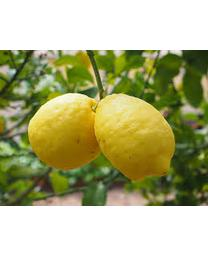lemon: (95, 95, 176, 183), (29, 92, 103, 170)
